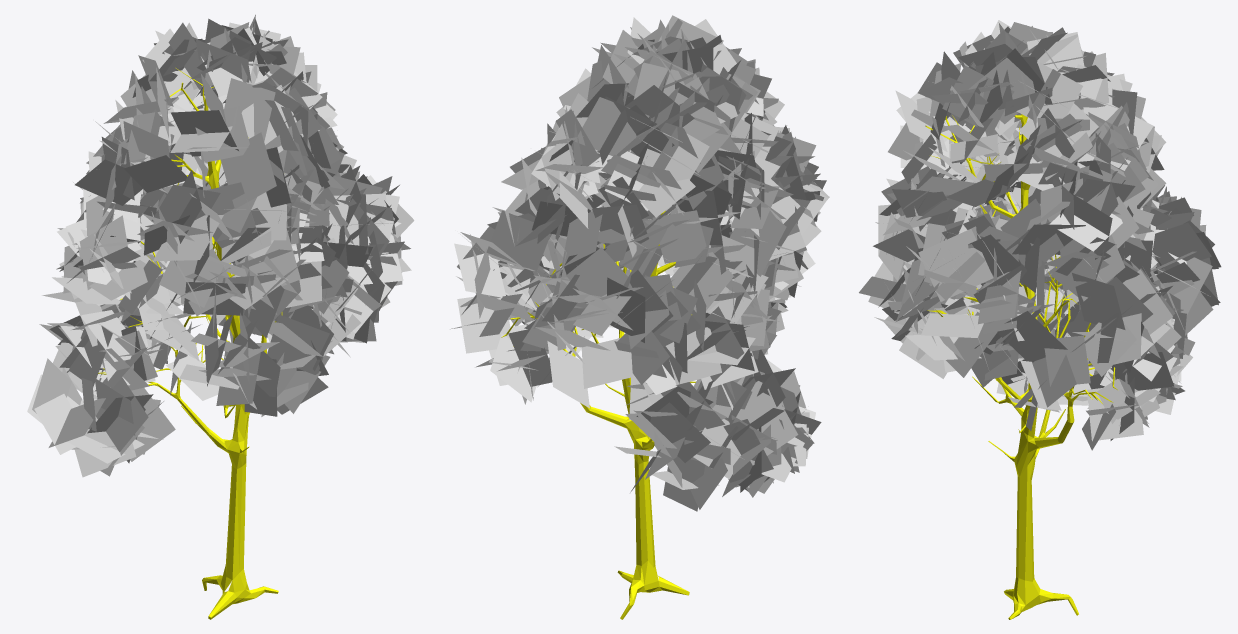
File: tree_birch.glb
3 renders of one model, left to right at view 1: azimuth 30°, elevation 25°; view 2: azimuth 150°, elevation 25°; view 3: azimuth 270°, elevation 25°, orthographic. The views are drawn at different scales.
Visible parts, largest first — view 1: Birch_01_LOD0, SM_Birch_01_LOD0; view 2: Birch_01_LOD0, SM_Birch_01_LOD0; view 3: Birch_01_LOD0, SM_Birch_01_LOD0.
Boxes of the visible parts, x1,y1,x2,y2 form: Birch_01_LOD0: (27, 14, 414, 477); SM_Birch_01_LOD0: (98, 68, 282, 619); Birch_01_LOD0: (450, 15, 829, 511); SM_Birch_01_LOD0: (501, 210, 695, 619); Birch_01_LOD0: (859, 20, 1221, 450); SM_Birch_01_LOD0: (925, 114, 1117, 619).
Bounding box in the file's own units: 6.09 × 9.75 × 5.53.
